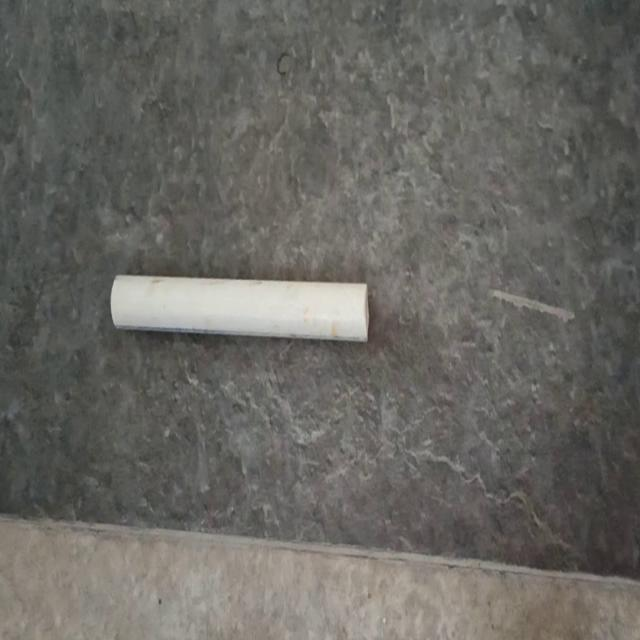Cube: (110, 271, 370, 343)
